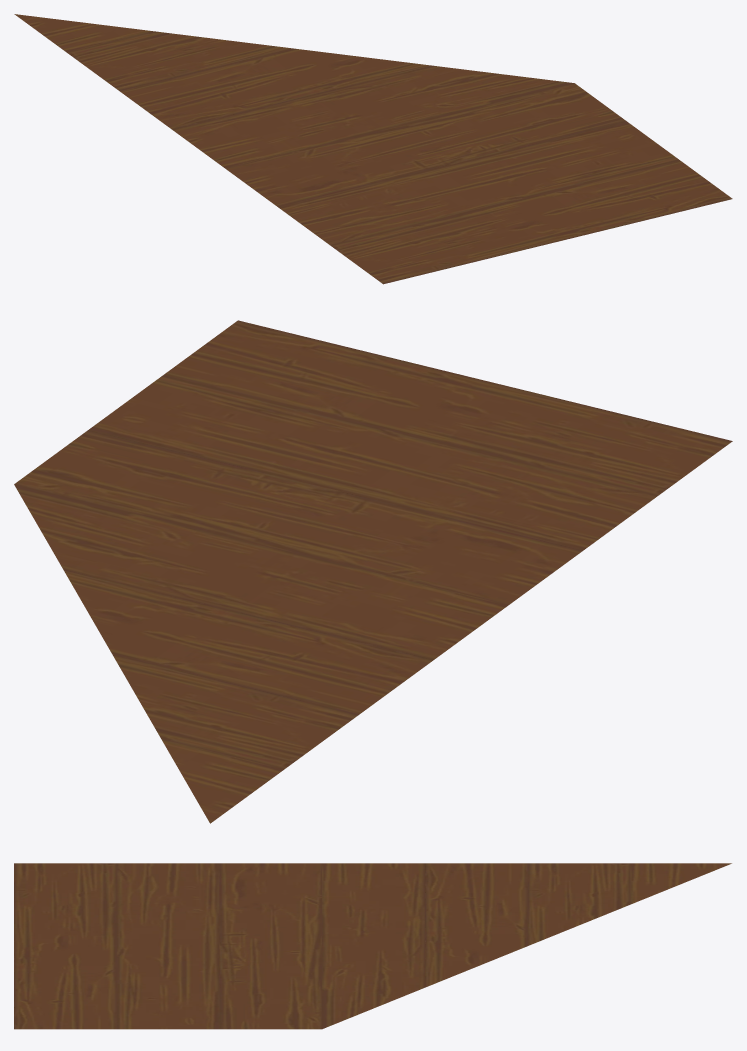
Rendered from floor-wooddark-overhangcorner2.glb.
The picture shows the model from 3 angles, top to bottom: view 1: azimuth 30°, elevation 25°; view 2: azimuth 150°, elevation 25°; view 3: azimuth 270°, elevation 25°; orthographic projection. The views are drawn at different scales.
Parts seen in each view (by area): view 1: Floor_WoodDark_OverhangCorner2; view 2: Floor_WoodDark_OverhangCorner2; view 3: Floor_WoodDark_OverhangCorner2.
Part boxes in pixels (<box>): Floor_WoodDark_OverhangCorner2: <box>14,14,732,284</box>; Floor_WoodDark_OverhangCorner2: <box>14,320,732,823</box>; Floor_WoodDark_OverhangCorner2: <box>14,863,731,1029</box>.
Bounding box in the file's own units: 0.9566 × 0.02 × 1.75.
Materials: 1 (1 with a texture image).
